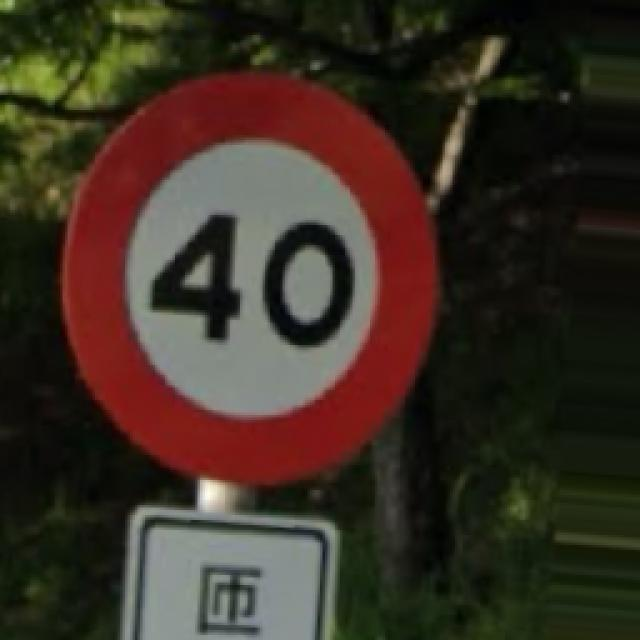Speed Limit -40-: (62, 72, 435, 482)
